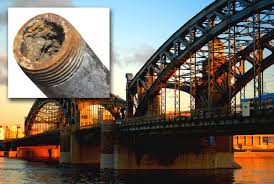rust: (13, 13, 83, 75)
